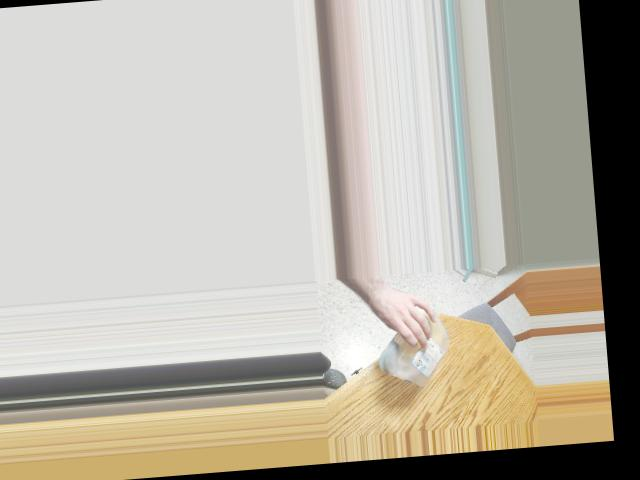cheese: (375, 297, 455, 392)
